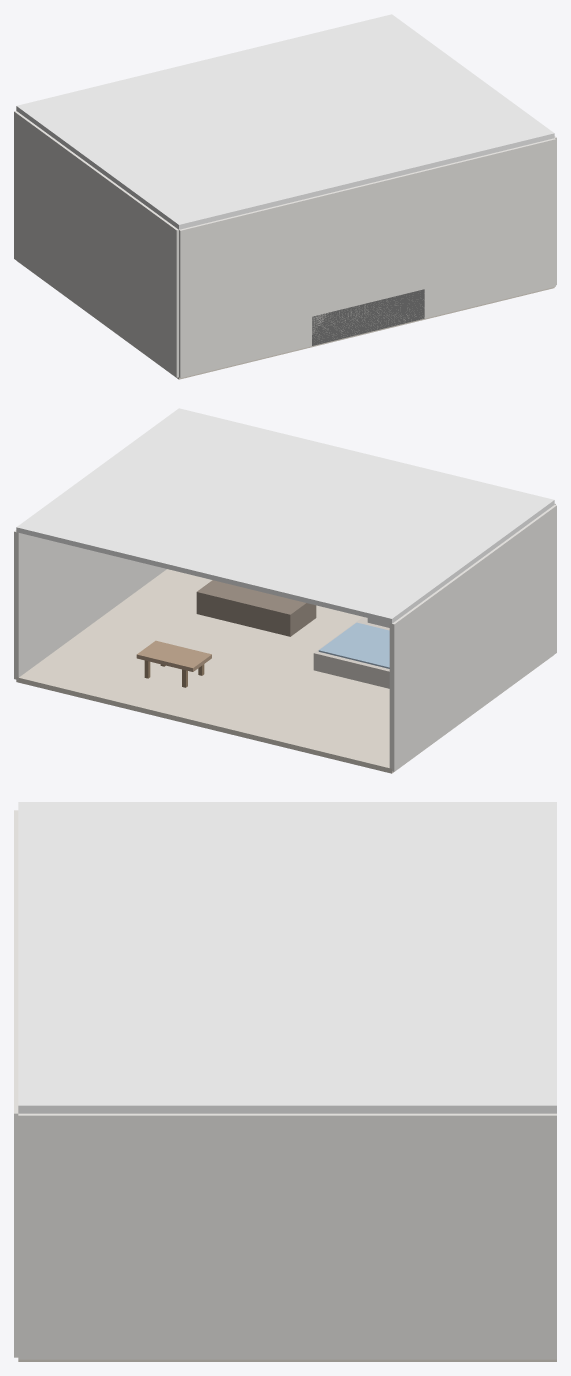
Rendered from tipo-a.glb.
3 renders of one model, top to bottom at view 1: azimuth 30°, elevation 25°; view 2: azimuth 150°, elevation 25°; view 3: azimuth 270°, elevation 25°, orthographic. The views are drawn at different scales.
Visible parts, largest first — view 1: Ceiling, Wall_Back, Wall_Left, TVStand, Floor; view 2: Ceiling, Floor, Wall_Left, Wall_Right, Sofa_Base, Bed_Cover, Bed_Base, Table_Top; view 3: Ceiling, Wall_Right, Wall_Back, Floor.
Boxes of the visible parts, <box> form: Ceiling: <box>16,14,554,229</box>; Wall_Back: <box>179,138,555,378</box>; Wall_Left: <box>14,111,178,377</box>; TVStand: <box>312,289,424,345</box>; Floor: <box>17,261,554,379</box>; Ceiling: <box>16,408,554,623</box>; Floor: <box>16,569,553,773</box>; Wall_Left: <box>389,505,556,771</box>; Wall_Right: <box>14,530,166,679</box>; Sofa_Base: <box>196,580,314,636</box>; Bed_Cover: <box>318,622,389,668</box>; Bed_Base: <box>313,617,389,688</box>; Table_Top: <box>136,640,211,671</box>; Ceiling: <box>18,802,556,1113</box>; Wall_Right: <box>18,1113,556,1359</box>; Wall_Back: <box>14,810,18,1357</box>; Floor: <box>18,1359,556,1361</box>.
Bounding box in the file's own units: 8.1 × 3.15 × 6.05.
